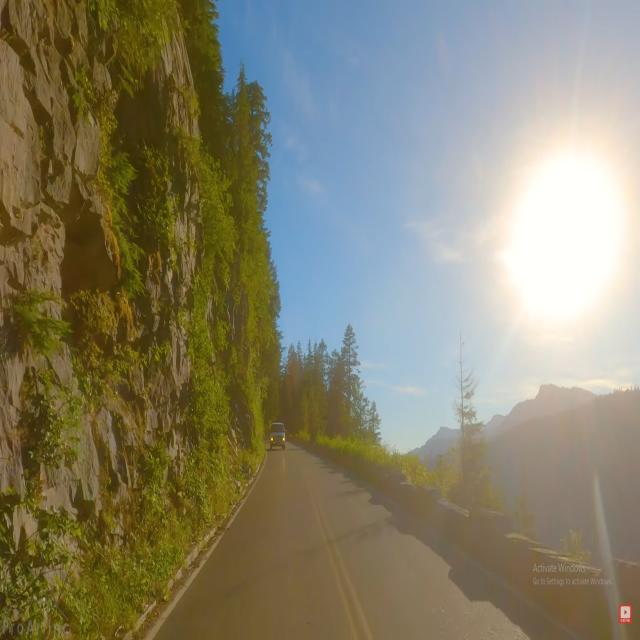sun: (480, 99, 640, 380)
